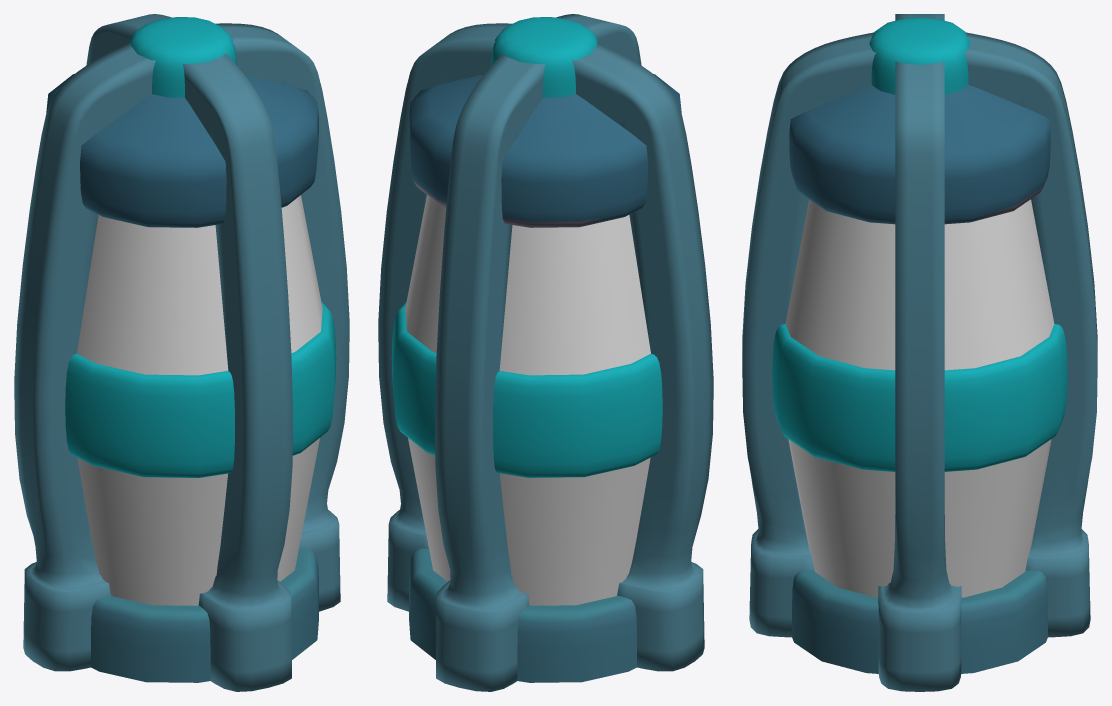
Rendered from lightning.fbx.
The picture shows the model from 3 angles, left to right: view 1: azimuth 30°, elevation 25°; view 2: azimuth 150°, elevation 25°; view 3: azimuth 270°, elevation 25°; orthographic projection.
Parts seen in each view (by area): view 1: Cube.004, Cube.006, Cube.010, Cube.009, Cube.008; view 2: Cube.004, Cube.006, Cube.010, Cube.009, Cube.008; view 3: Cube.006, Cube.010, Cube.009, Cube.004, Cube.008.
Part boxes in pixels (bbox=[...]): Cube.004: bbox=[14, 23, 349, 671]; Cube.006: bbox=[86, 14, 293, 691]; Cube.010: bbox=[77, 195, 322, 605]; Cube.009: bbox=[46, 17, 318, 682]; Cube.008: bbox=[65, 301, 336, 477]; Cube.004: bbox=[378, 23, 713, 671]; Cube.006: bbox=[434, 14, 641, 691]; Cube.010: bbox=[405, 195, 650, 605]; Cube.009: bbox=[409, 17, 681, 682]; Cube.008: bbox=[391, 301, 662, 477]; Cube.006: bbox=[742, 32, 1097, 637]; Cube.010: bbox=[785, 199, 1054, 597]; Cube.009: bbox=[789, 17, 1050, 673]; Cube.004: bbox=[878, 14, 961, 691]; Cube.008: bbox=[772, 324, 1067, 471].
Bounding box in the file's own units: 28.96 × 52.92 × 28.96.
